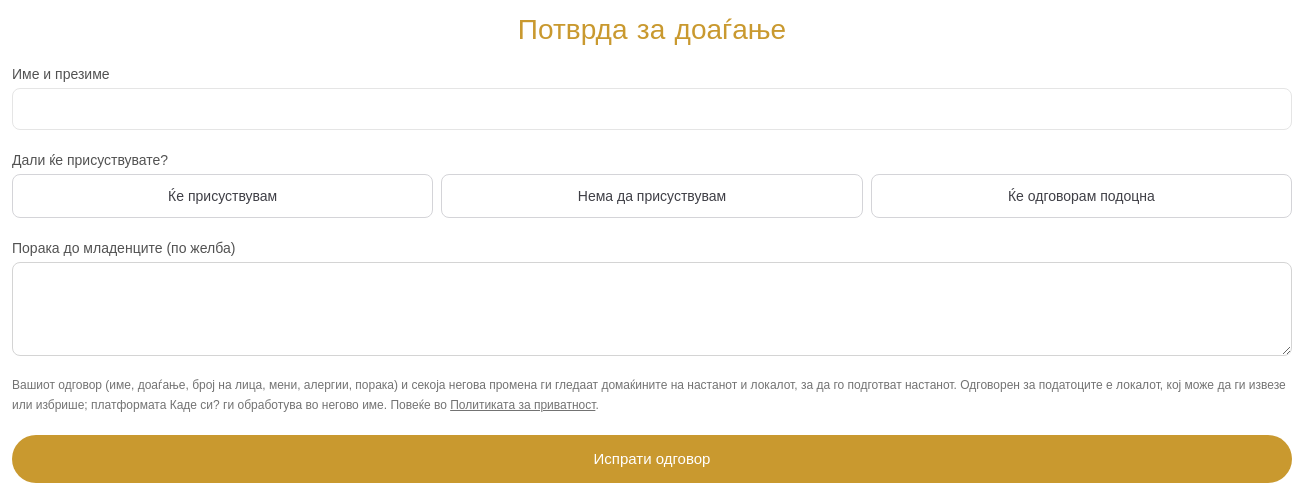
Scenario: RsvpForm (A2-A5, A18) › asks nothing about the party for a no, but keeps the comment
This screenshot has width=1304, height=500.
Type "Петар Петровски" into the field labelled "Име и презиме" at point(652, 109), box [12,88,1292,130]
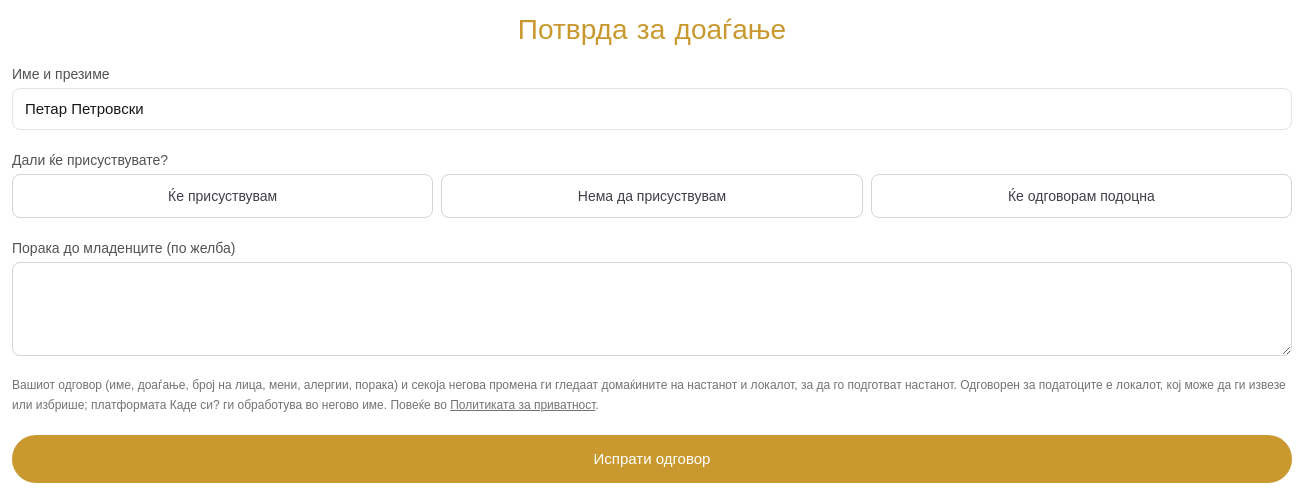
Click the button "Нема да присуствувам" at point(652, 196), box [441,174,863,218]
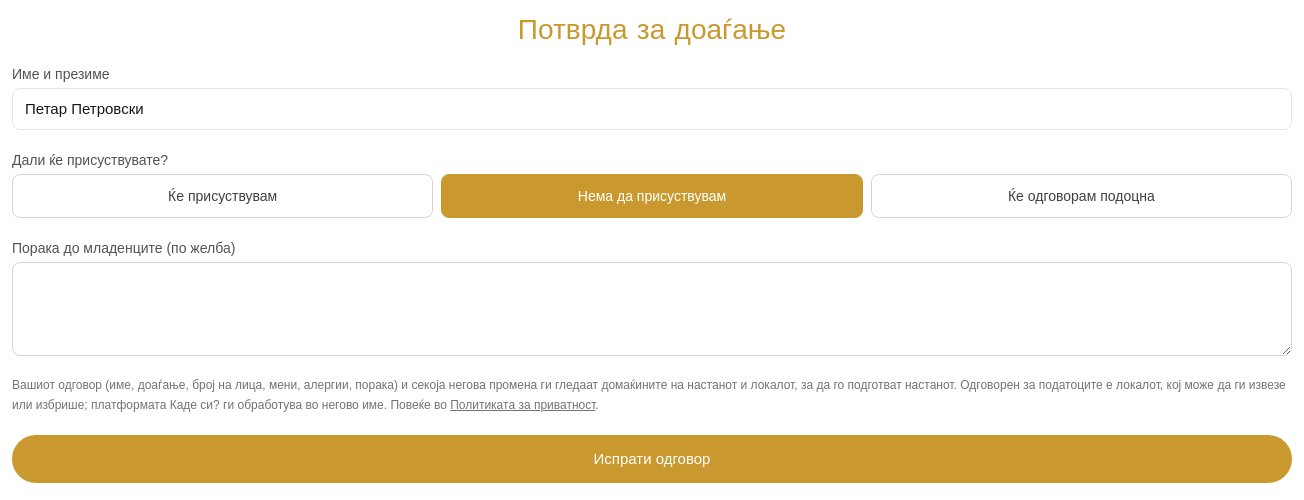
Type "Жал ни е" into the text box labelled "Порака до младенците (по желба)" at point(652, 309), box [12,262,1292,356]
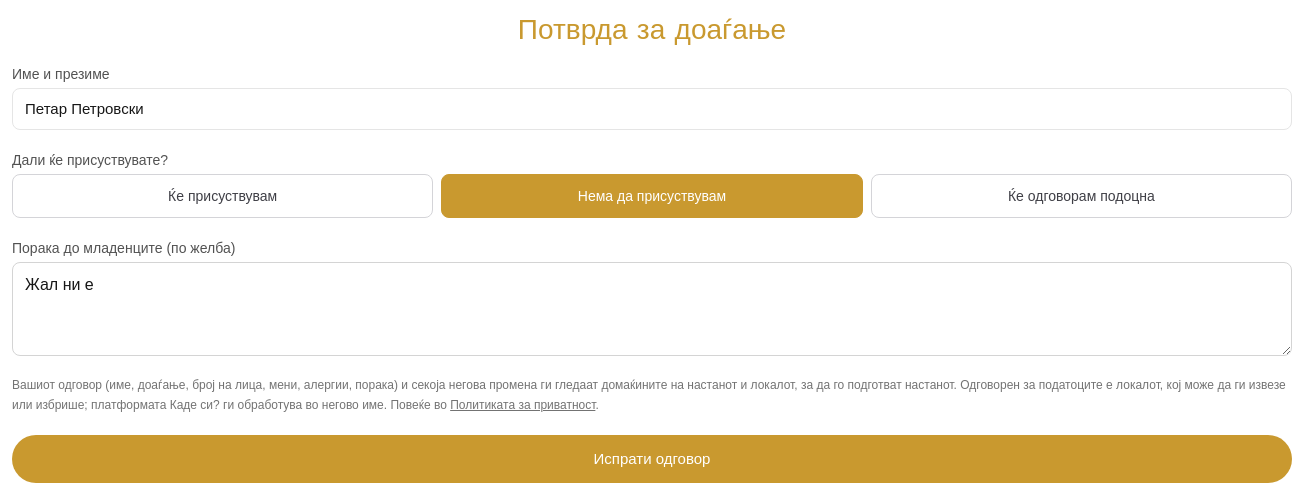
Click the button "Испрати одговор" at point(652, 459), box [12,435,1292,483]
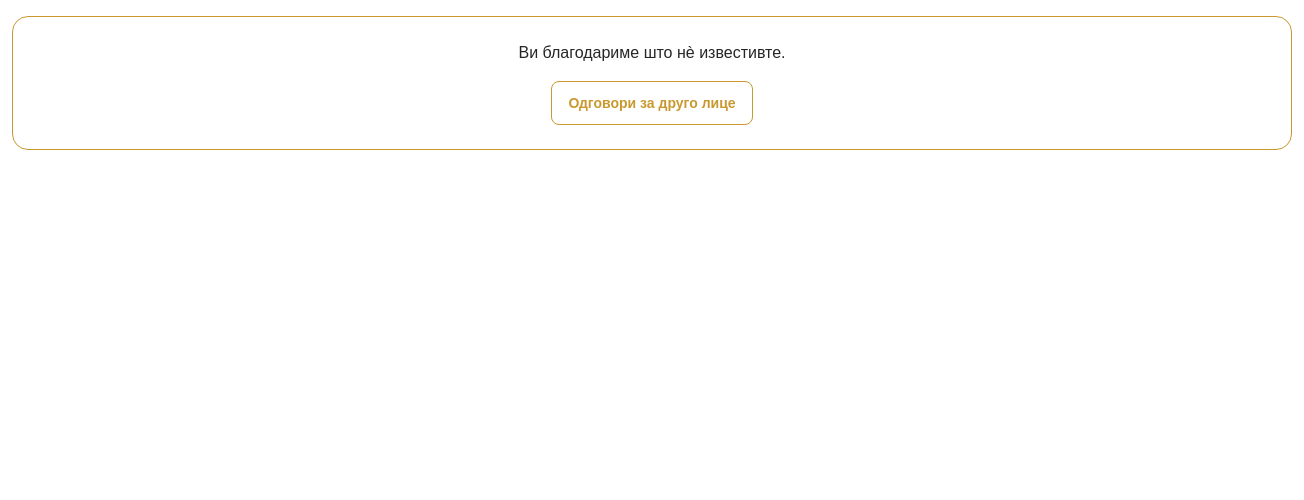
Expected: the text "Ви благодариме што нè известивте." is shown, [518,44,786,61]
